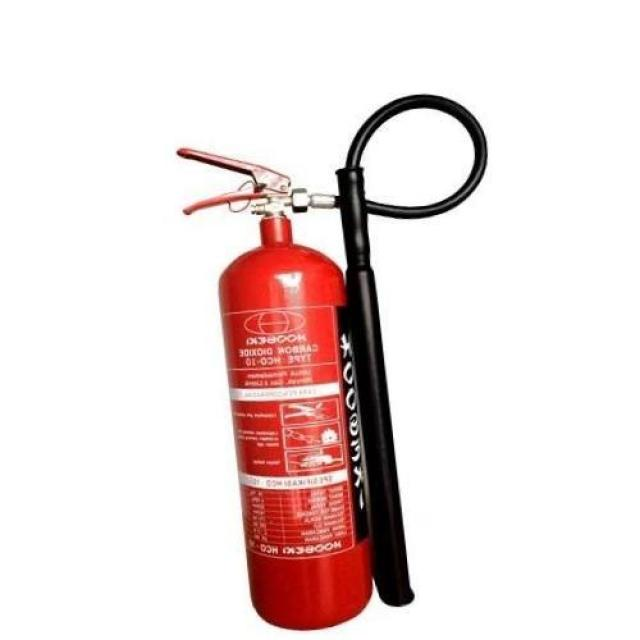fire_extinguisher: (169, 90, 491, 637)
